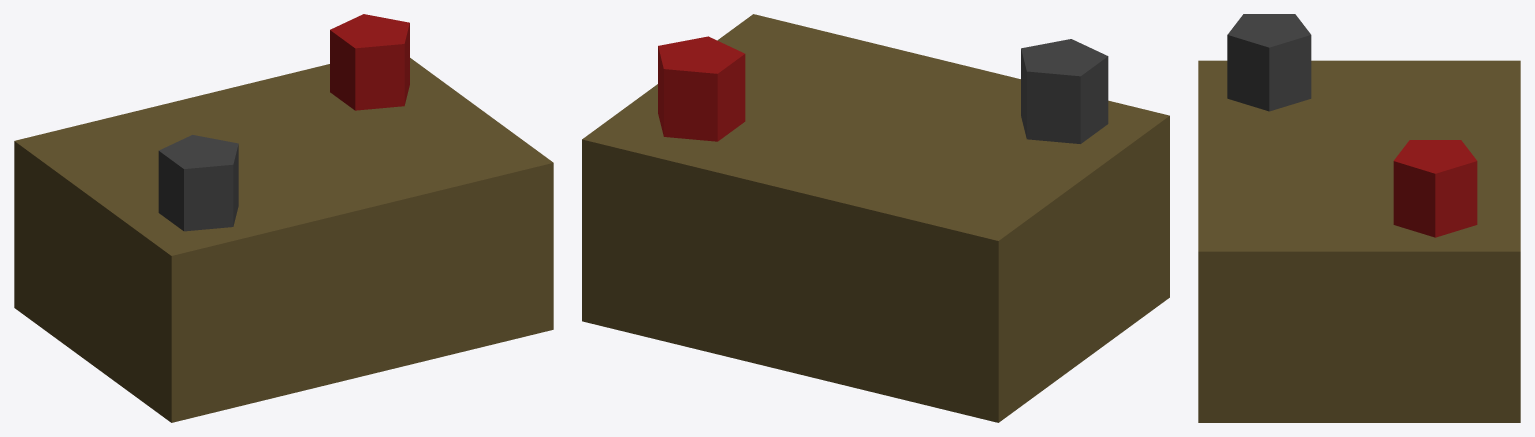
Rendered from Battery.fbx.
3 renders of one model, left to right at view 1: azimuth 30°, elevation 25°; view 2: azimuth 150°, elevation 25°; view 3: azimuth 270°, elevation 25°, orthographic. The views are drawn at different scales.
Parts seen in each view (by area): view 1: Battery; view 2: Battery; view 3: Battery.
Boxes of the visible parts, x1=… form: Battery: x1=14, y1=14, x2=553, y2=422; Battery: x1=582, y1=14, x2=1169, y2=422; Battery: x1=1198, y1=14, x2=1520, y2=422.
Bounding box in the file's own units: 1 × 0.5731 × 0.7127.
